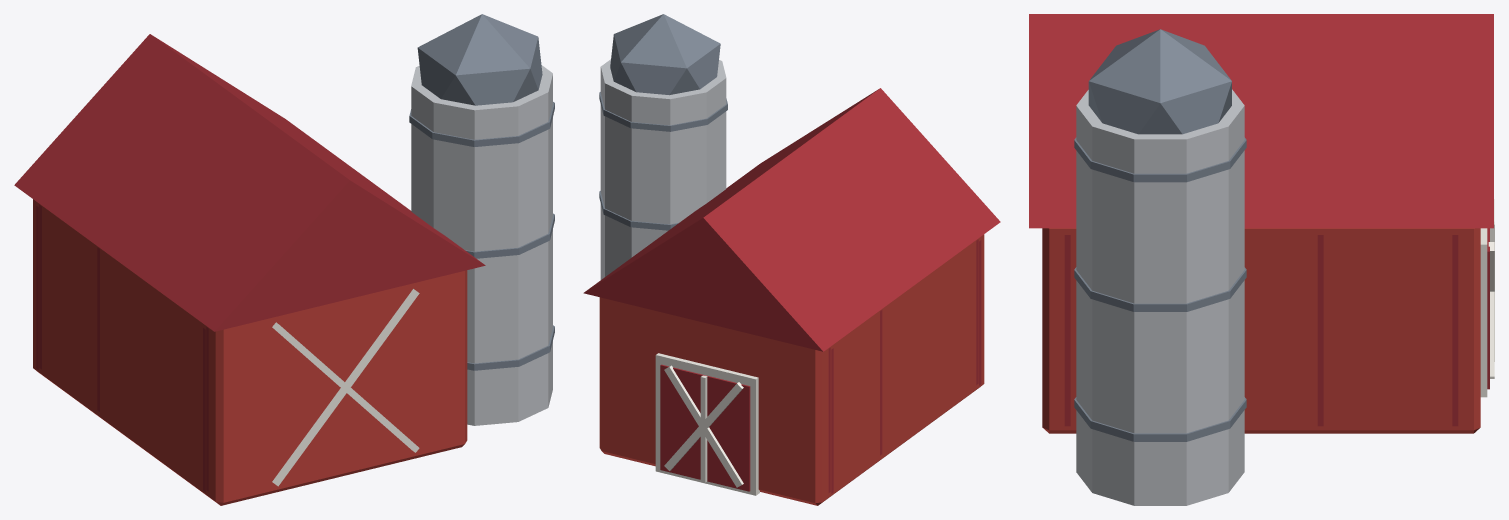
The model's file is barn.glb.
3 views of the same model, side by side, from view 1: azimuth 30°, elevation 25°; view 2: azimuth 150°, elevation 25°; view 3: azimuth 270°, elevation 25° (orthographic). The views are drawn at different scales.
Parts seen in each view (by area): view 1: barn; view 2: barn; view 3: barn.
Boxes of the visible parts, x1,y1,x2,y2 form: barn: (14,14,554,505); barn: (583,14,1000,505); barn: (1029,14,1494,505).
Size of the model in its own units: 3.07 by 2.9 by 2.76.
1 material, 1 textured.
